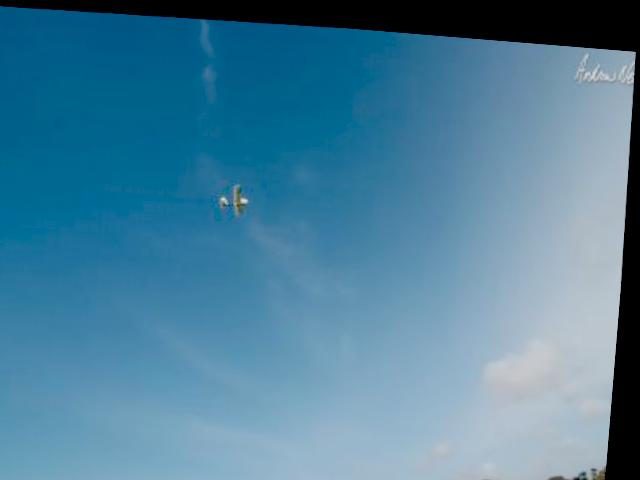uav: (216, 172, 264, 219)
